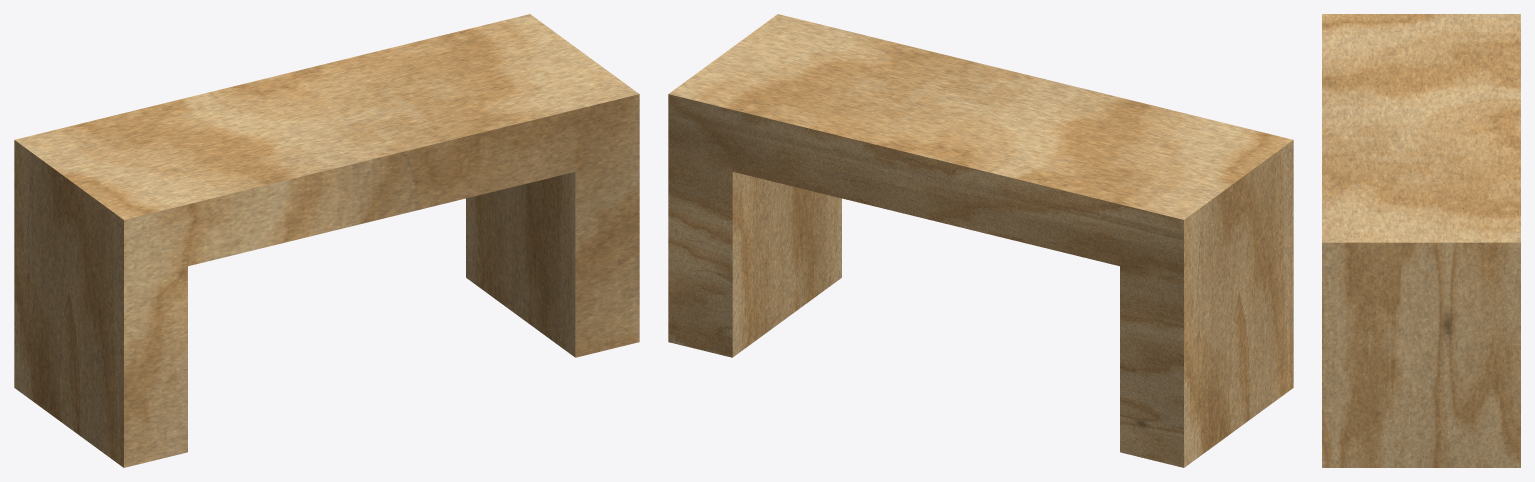
Rendered from SM_MesaCompensado.fbx.
3 views of the same model, side by side, from view 1: azimuth 30°, elevation 25°; view 2: azimuth 150°, elevation 25°; view 3: azimuth 270°, elevation 25° (orthographic). The views are drawn at different scales.
Parts seen in each view (by area): view 1: SM_MesaCompensado; view 2: SM_MesaCompensado; view 3: SM_MesaCompensado.
Part boxes in pixels (x1,y1,x2,y2): SM_MesaCompensado: (14, 14, 639, 467); SM_MesaCompensado: (668, 14, 1293, 467); SM_MesaCompensado: (1322, 14, 1520, 467).
Size of the model in its own units: 176 by 80.7 by 64.56.
